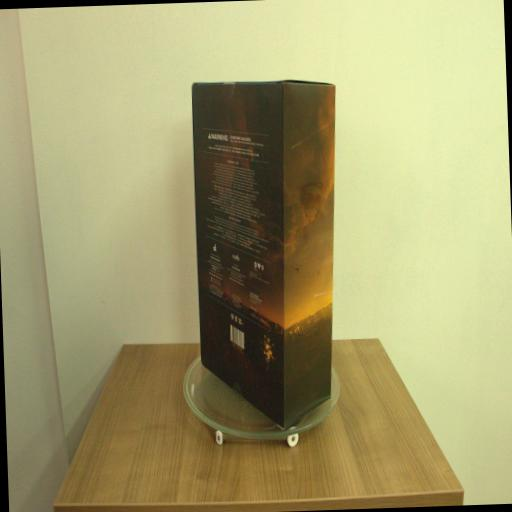superman: (192, 76, 346, 432)
